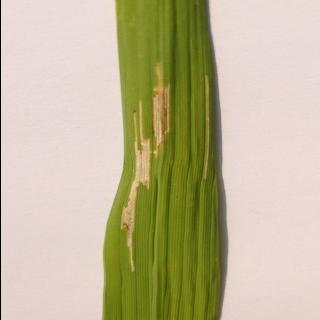Hawar-Daun: (116, 58, 172, 278), (193, 68, 213, 186)
